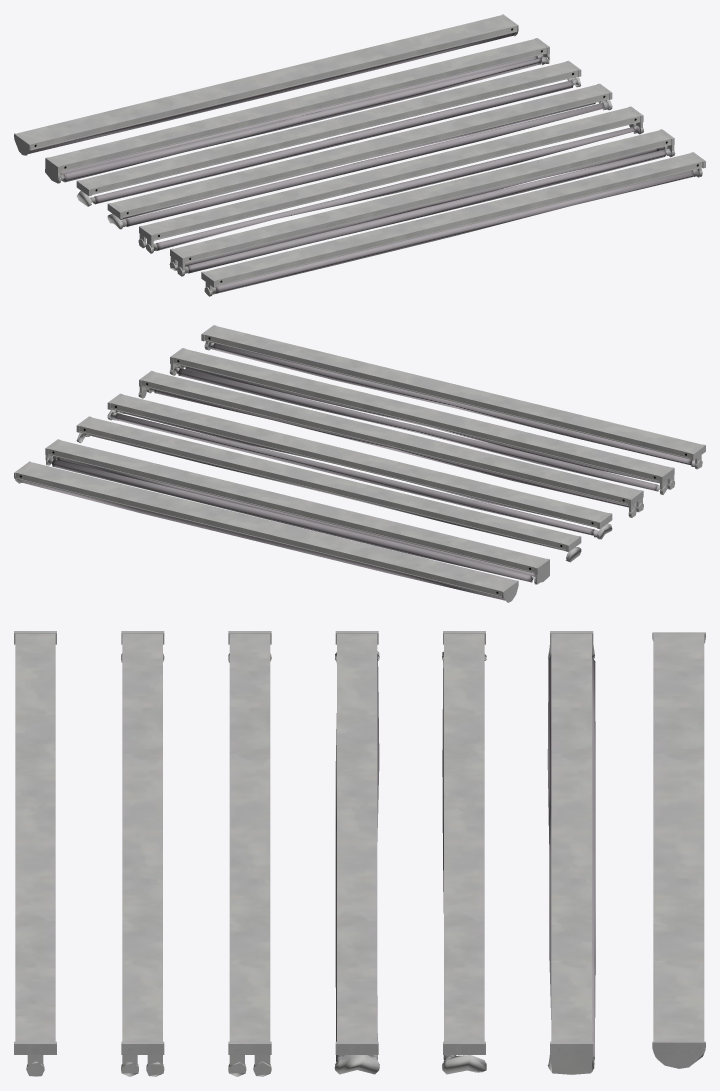
File: fluorescent.glb
3 renders of one model, top to bottom at view 1: azimuth 30°, elevation 25°; view 2: azimuth 150°, elevation 25°; view 3: azimuth 270°, elevation 25°, orthographic. The views are drawn at different scales.
Parts seen in each view (by area): view 1: mounted_fluorescent_lights_b, mounted_fluorescent_lights_f, mounted_fluorescent_lights_d, mounted_fluorescent_lights_e, mounted_fluorescent_lights_c, mounted_fluorescent_lights_a, mounted_fluorescent_lights_g; view 2: mounted_fluorescent_lights_f, mounted_fluorescent_lights_b, mounted_fluorescent_lights_d, mounted_fluorescent_lights_a, mounted_fluorescent_lights_g, mounted_fluorescent_lights_c, mounted_fluorescent_lights_e; view 3: mounted_fluorescent_lights_g, mounted_fluorescent_lights_f, mounted_fluorescent_lights_d, mounted_fluorescent_lights_c, mounted_fluorescent_lights_e, mounted_fluorescent_lights_b, mounted_fluorescent_lights_a.
Boxes of the visible parts, x1,y1,x2,y2 form: mounted_fluorescent_lights_b: [169, 129, 675, 276]; mounted_fluorescent_lights_f: [45, 38, 549, 183]; mounted_fluorescent_lights_d: [107, 83, 612, 229]; mounted_fluorescent_lights_e: [76, 60, 581, 206]; mounted_fluorescent_lights_c: [138, 106, 643, 253]; mounted_fluorescent_lights_a: [201, 152, 705, 296]; mounted_fluorescent_lights_g: [14, 14, 518, 155]; mounted_fluorescent_lights_f: [45, 439, 549, 584]; mounted_fluorescent_lights_b: [169, 348, 674, 494]; mounted_fluorescent_lights_d: [107, 393, 612, 539]; mounted_fluorescent_lights_a: [201, 325, 705, 469]; mounted_fluorescent_lights_g: [14, 461, 518, 602]; mounted_fluorescent_lights_c: [138, 370, 643, 517]; mounted_fluorescent_lights_e: [76, 416, 581, 562]; mounted_fluorescent_lights_g: [652, 632, 705, 1068]; mounted_fluorescent_lights_f: [547, 631, 595, 1074]; mounted_fluorescent_lights_d: [334, 631, 379, 1074]; mounted_fluorescent_lights_c: [228, 631, 271, 1076]; mounted_fluorescent_lights_e: [442, 631, 486, 1074]; mounted_fluorescent_lights_b: [121, 631, 164, 1076]; mounted_fluorescent_lights_a: [14, 631, 56, 1076].
Bounding box in the file's own units: 0.9122 × 0.0354 × 0.6454.
Materials: 2 (2 with a texture image).
